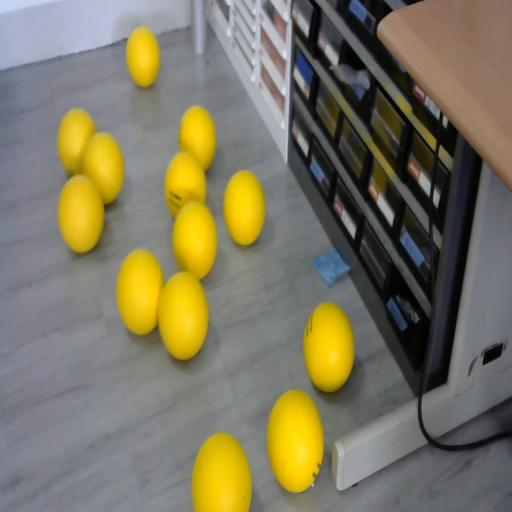FUEL: (266, 388, 324, 493), (156, 268, 210, 360), (190, 432, 252, 510), (302, 301, 355, 392), (114, 246, 166, 336), (56, 172, 106, 254), (172, 200, 218, 279), (223, 170, 265, 246), (57, 108, 97, 176), (178, 105, 218, 171), (126, 26, 160, 88)
